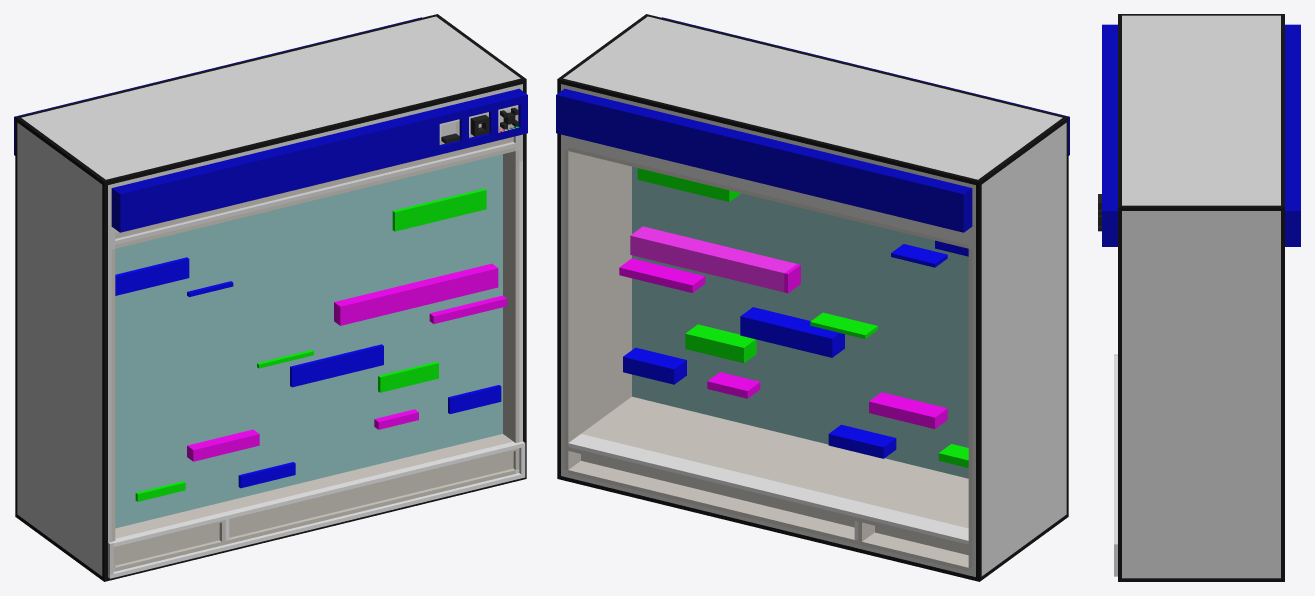
The model's file is Window2_1.fbx.
The picture shows the model from 3 angles, left to right: view 1: azimuth 30°, elevation 25°; view 2: azimuth 150°, elevation 25°; view 3: azimuth 270°, elevation 25°; orthographic projection. The views are drawn at different scales.
Visible parts, largest first — view 1: Untitled.003, Untitled.002, Untitled.001, Untitled.006; view 2: Untitled.003, Untitled.002, Untitled.006, Untitled.001; view 3: Untitled.003, Untitled.001.
Boxes of the visible parts, x1=… form: Untitled.003: x1=15, y1=14, x2=526, y2=581; Untitled.002: x1=115, y1=154, x2=502, y2=528; Untitled.001: x1=14, y1=17, x2=527, y2=232; Untitled.006: x1=115, y1=188, x2=507, y2=501; Untitled.003: x1=557, y1=14, x2=1068, y2=581; Untitled.002: x1=632, y1=166, x2=968, y2=478; Untitled.006: x1=619, y1=168, x2=968, y2=467; Untitled.001: x1=556, y1=17, x2=1069, y2=232; Untitled.003: x1=1098, y1=14, x2=1284, y2=581; Untitled.001: x1=1102, y1=24, x2=1300, y2=246.
Size of the model in its own units: 1150 by 1040 by 510.
4 materials, 4 textured.
